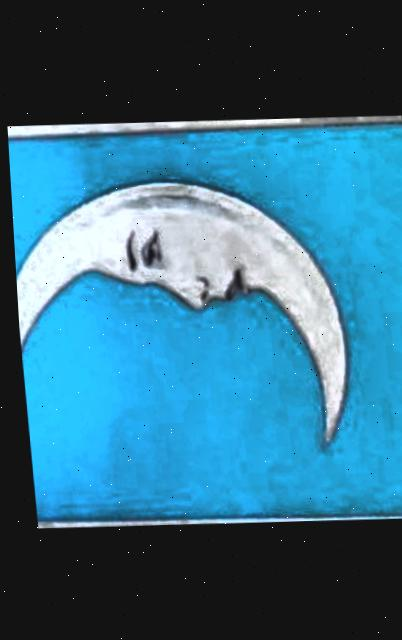La Luna: (7, 125, 402, 520)
